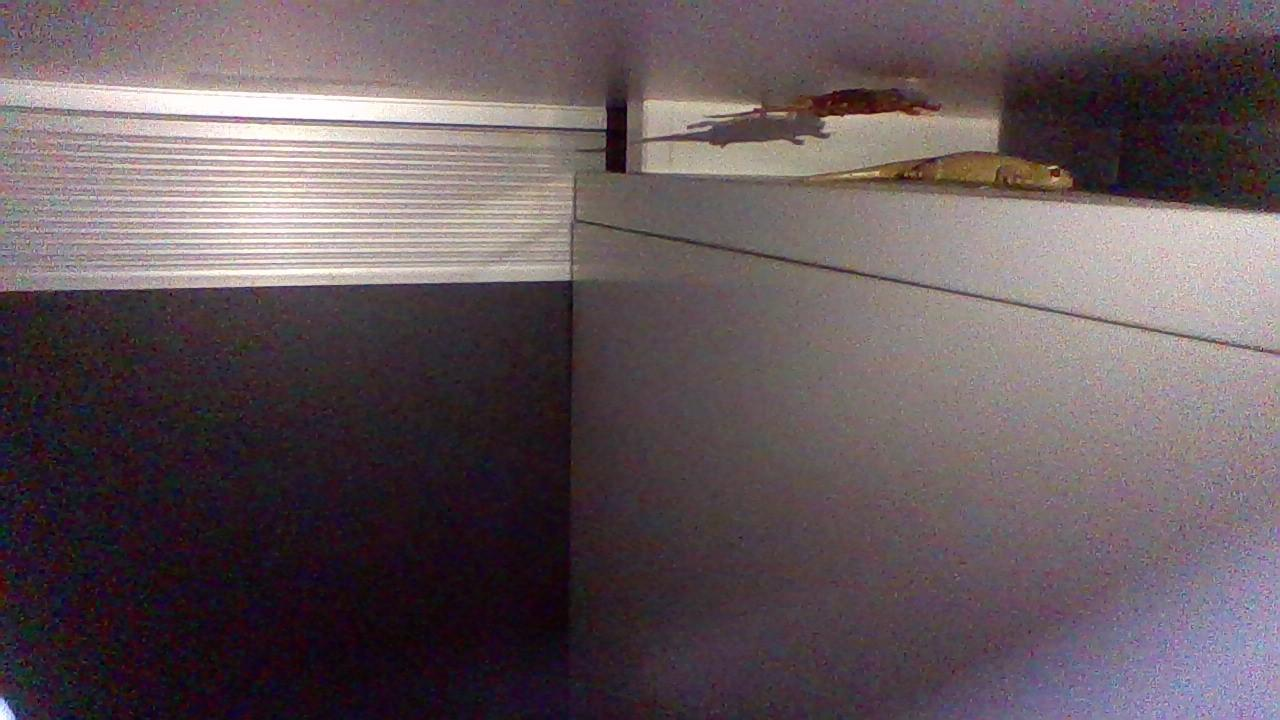cockroach: (760, 69, 940, 132)
lizard: (796, 149, 1075, 213)
